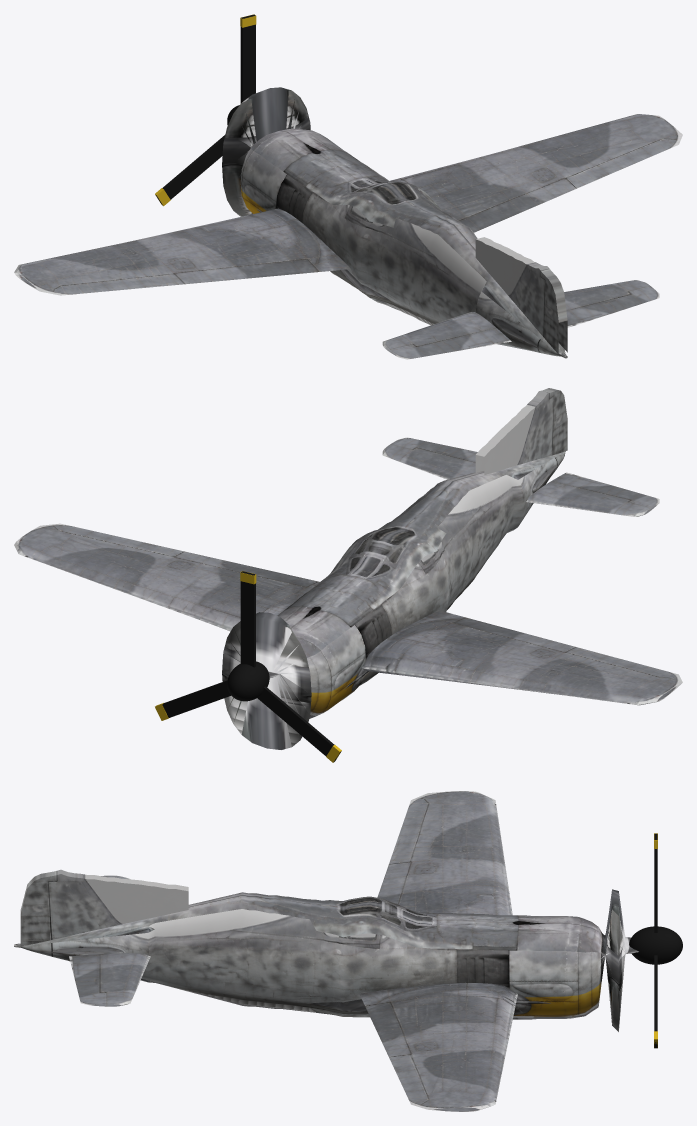
The picture shows the model from 3 angles, top to bottom: view 1: azimuth 30°, elevation 25°; view 2: azimuth 150°, elevation 25°; view 3: azimuth 270°, elevation 25°; orthographic projection.
Visible parts, largest first — view 1: Fuselage, WingL, WingR, Fin, TailplaneL, TailplaneR, Blade, _MeshInstance3D_1004; view 2: Fuselage, WingL, WingR, Fin, TailplaneL, TailplaneR, _MeshInstance3D_1004, Blade, Spinner, _MeshInstance3D_1002; view 3: Fuselage, WingR, WingL, Fin, TailplaneR, Spinner.
Part boxes in pixels (left/top/right/bottom): Fuselage: left=222, top=87, right=567, bottom=358; WingL: left=14, top=208, right=350, bottom=295; WingR: left=390, top=114, right=682, bottom=232; Fin: left=475, top=237, right=567, bottom=353; TailplaneL: left=382, top=312, right=511, bottom=359; TailplaneR: left=564, top=280, right=659, bottom=327; Blade: left=240, top=14, right=255, bottom=103; _MeshInstance3D_1004: left=155, top=135, right=225, bottom=205; Fuselage: left=222, top=451, right=565, bottom=749; WingL: left=362, top=610, right=682, bottom=705; WingR: left=14, top=523, right=319, bottom=631; Fin: left=475, top=388, right=567, bottom=474; TailplaneL: left=526, top=472, right=659, bottom=516; TailplaneR: left=382, top=437, right=477, bottom=479; _MeshInstance3D_1004: left=257, top=686, right=341, bottom=762; Blade: left=240, top=571, right=255, bottom=667; Spinner: left=227, top=661, right=269, bottom=701; _MeshInstance3D_1002: left=162, top=680, right=230, bottom=717; Fuselage: left=14, top=889, right=638, bottom=1031; WingR: left=359, top=982, right=517, bottom=1111; WingL: left=377, top=791, right=512, bottom=915; Fin: left=20, top=869, right=188, bottom=946; TailplaneR: left=69, top=953, right=150, bottom=1006; Spinner: left=629, top=926, right=682, bottom=964.
Bounding box in the file's own units: 10.5 × 2.94 × 9.38.
3 materials, 1 textured.
